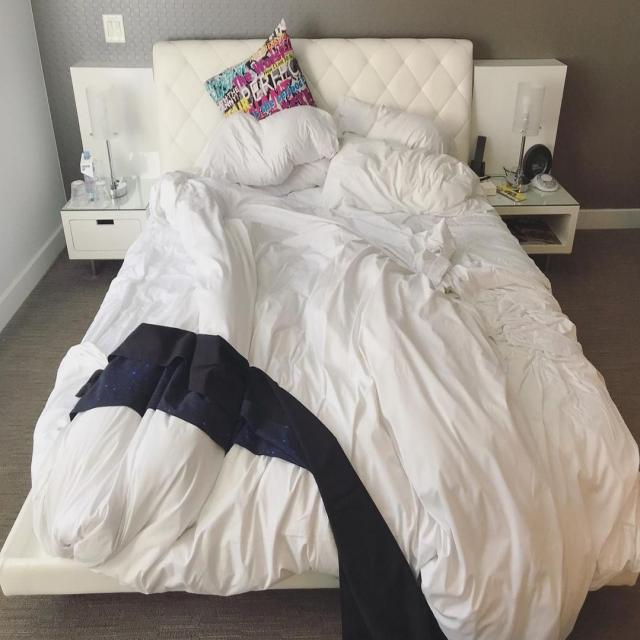bed: (12, 0, 639, 603)
